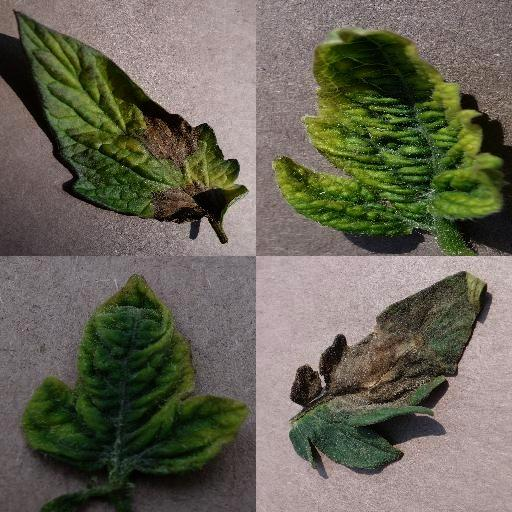Late Blight: (11, 7, 249, 225), (289, 271, 487, 471)
Yellow Leaf Curl Virus: (272, 21, 509, 237), (20, 275, 249, 475)
